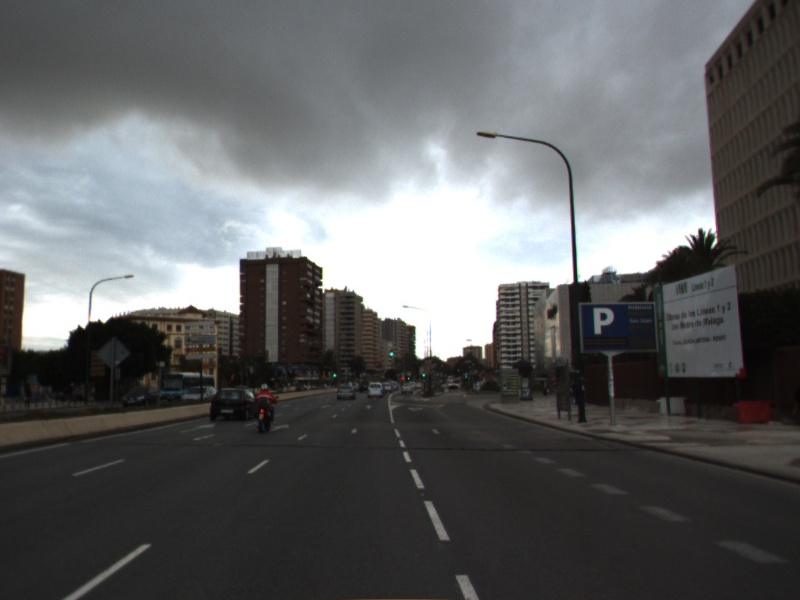STRAIGHT: (177, 421, 219, 435)
